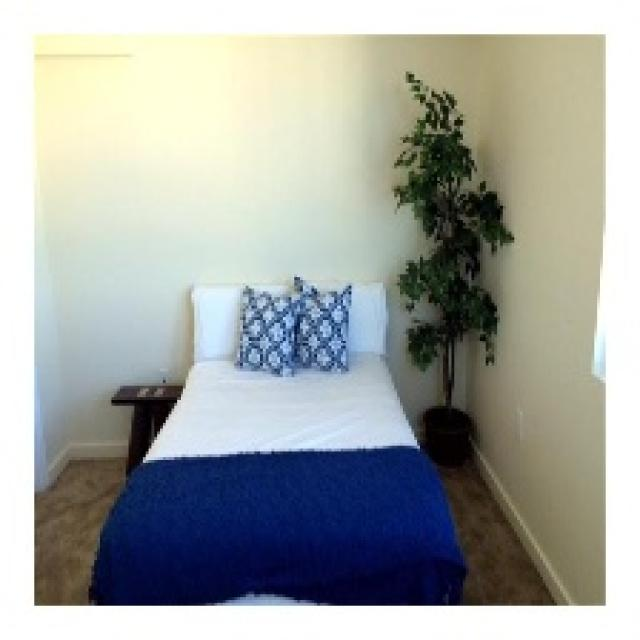Bed: (86, 277, 466, 606)
